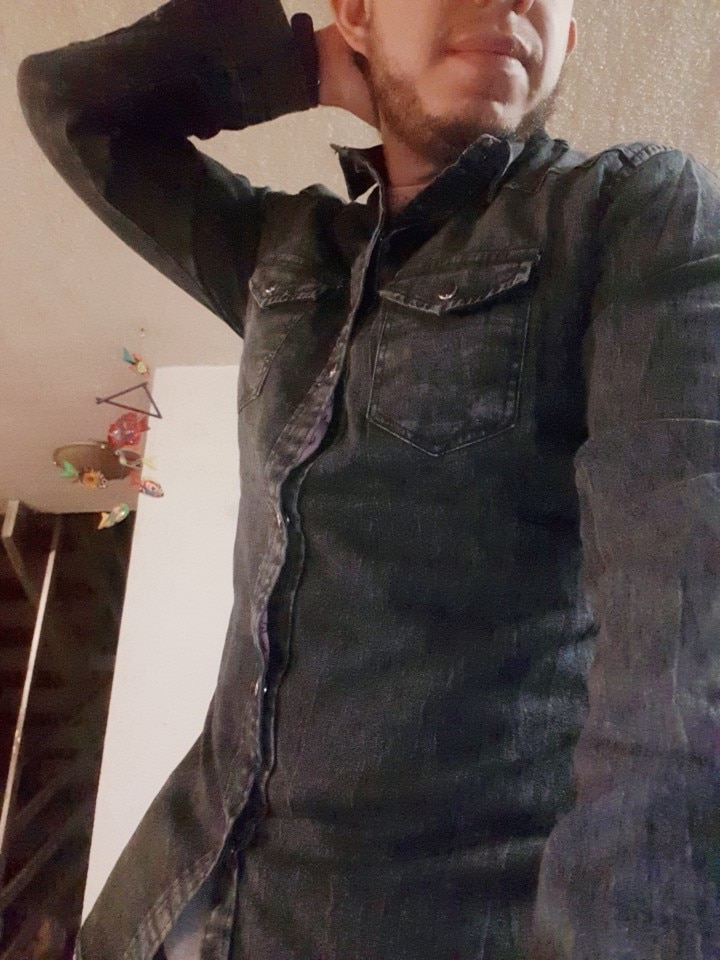shirts: (19, 11, 714, 960)
